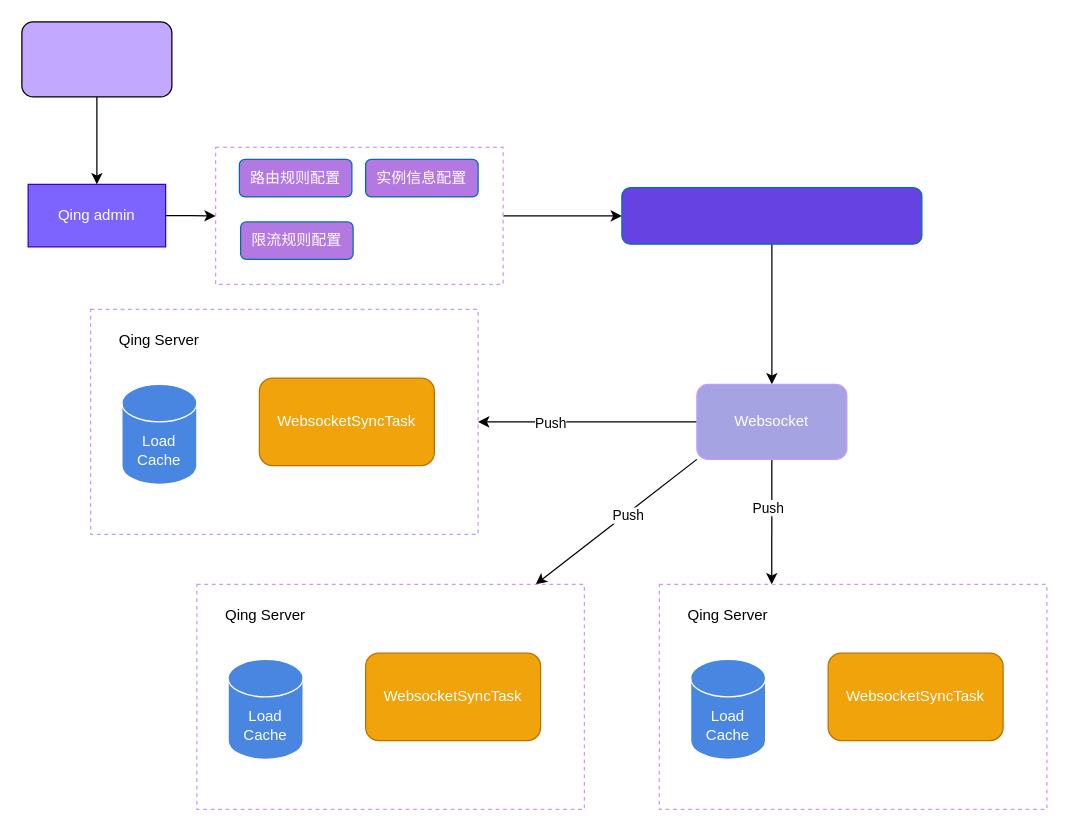
Some shapes in this 1069 by 831 pixel diagram are drawn without their labels. Here are the shapes that lost their labels. From the top down, the box of each, then its label:
(21, 21, 172, 97): nacos
(621, 186, 922, 244): ApplicationEventPublisher
